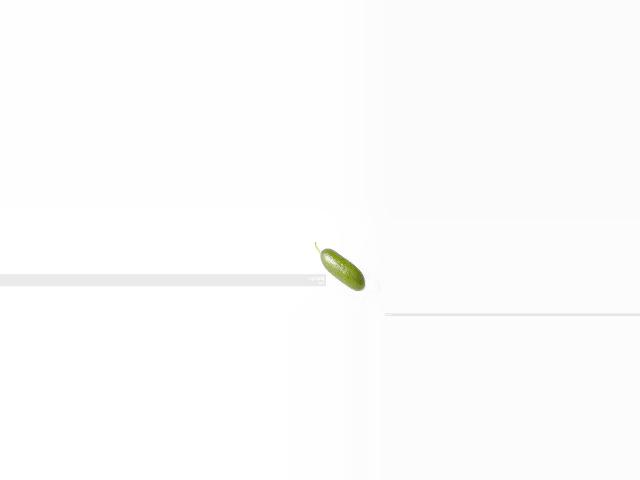cucumber: (313, 242, 364, 291)
